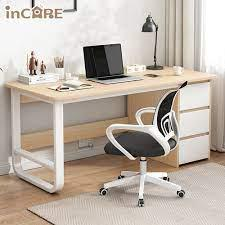desk: (2, 41, 216, 201)
